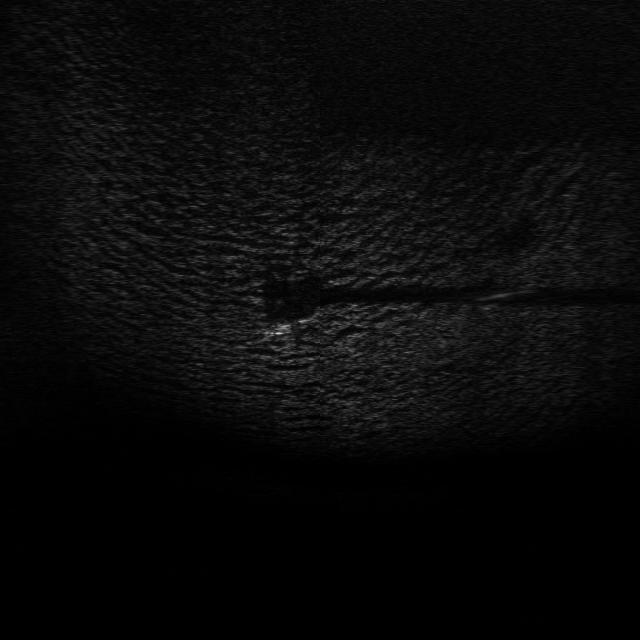plane: (250, 308, 322, 346)
